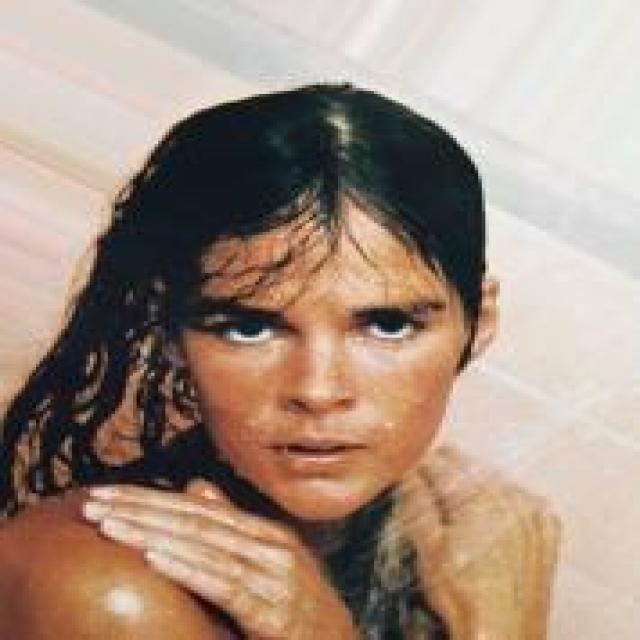nomask: (108, 74, 543, 522)
